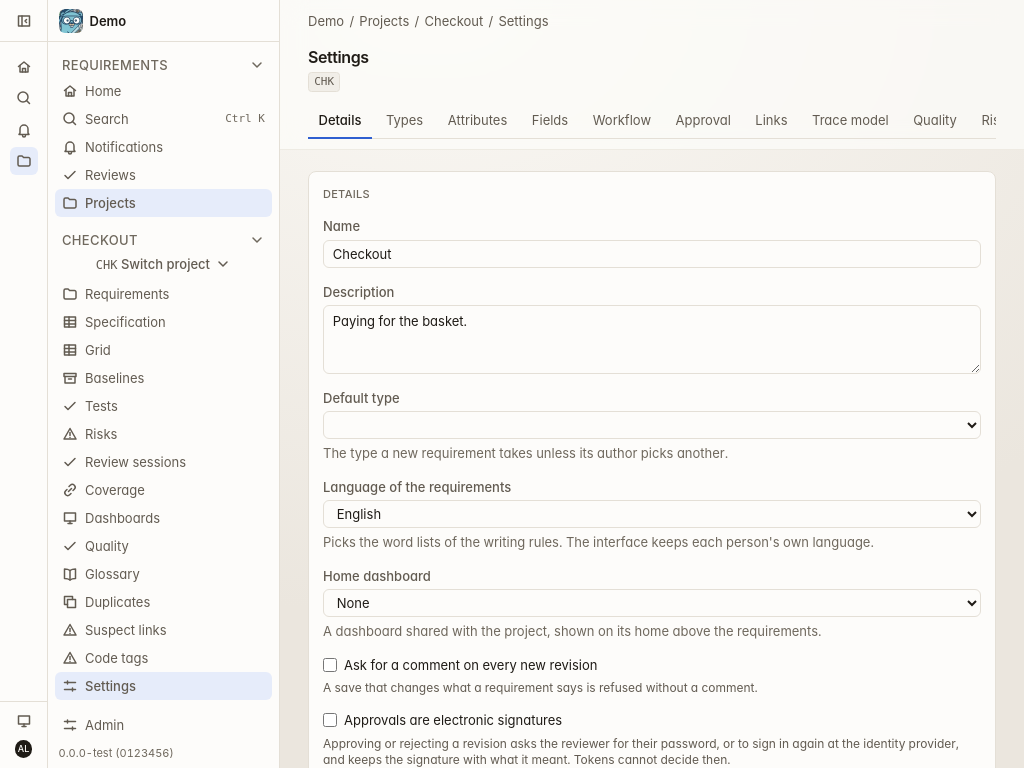
Test: a project's settings › saves the details and the revision comment setting, and says so once the form shows the saved project
Replace the text in the field labelled "Name" with "Checkout and payment" at (652, 254), box top-left (323, 240), bottom-right (981, 268)
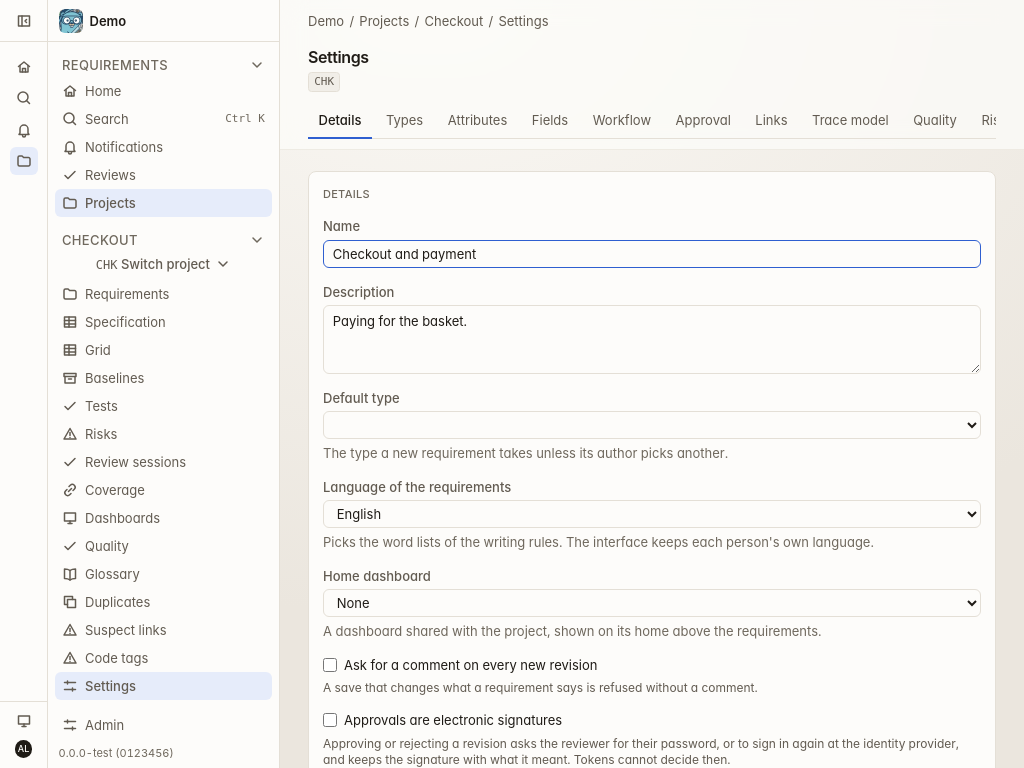
Click the checkbox labelled "Ask for a comment on every new revision" at (330, 665), box top-left (323, 658), bottom-right (337, 672)
(page scrolled)
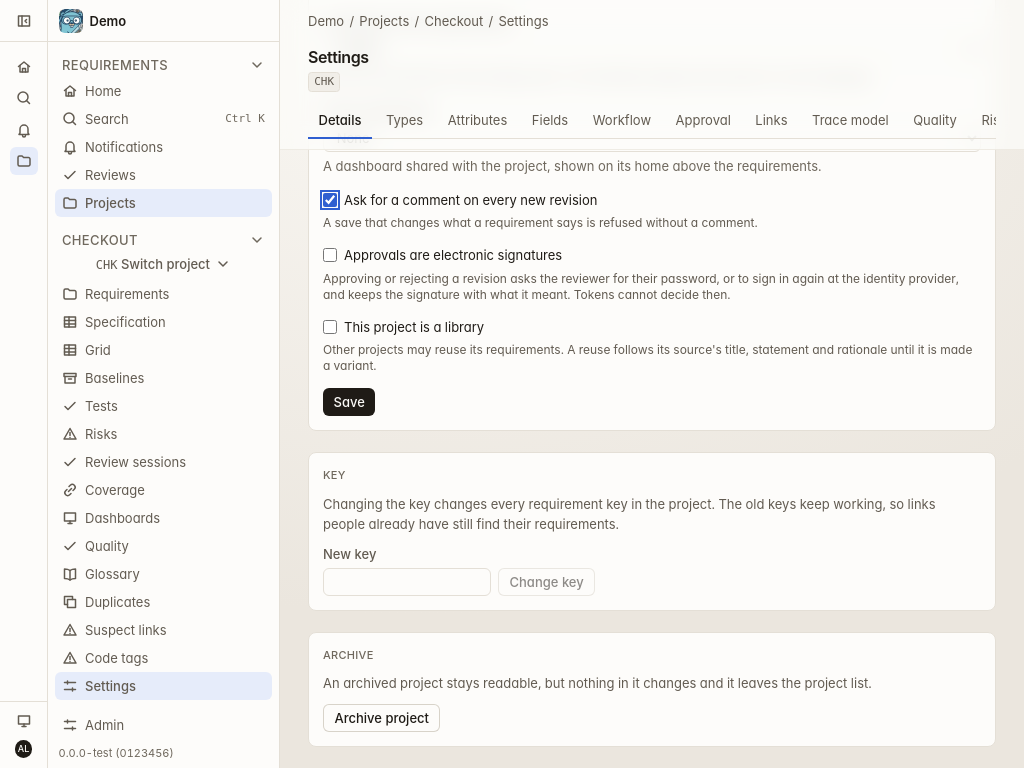
Click the button "Save" at (349, 402), box top-left (323, 388), bottom-right (375, 416)
(page scrolled)
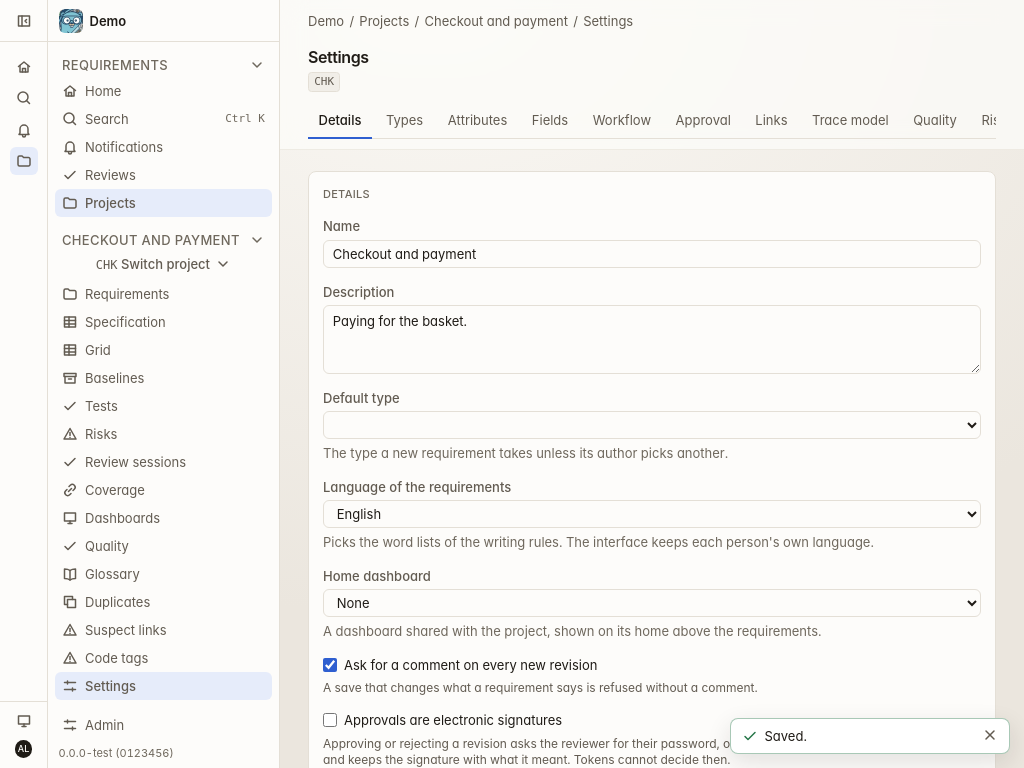
Result: the text "Saved." is shown at top-left (764, 728), bottom-right (807, 744)
Result: the field labelled "Name" holds "Checkout and payment" at top-left (323, 240), bottom-right (981, 268)
